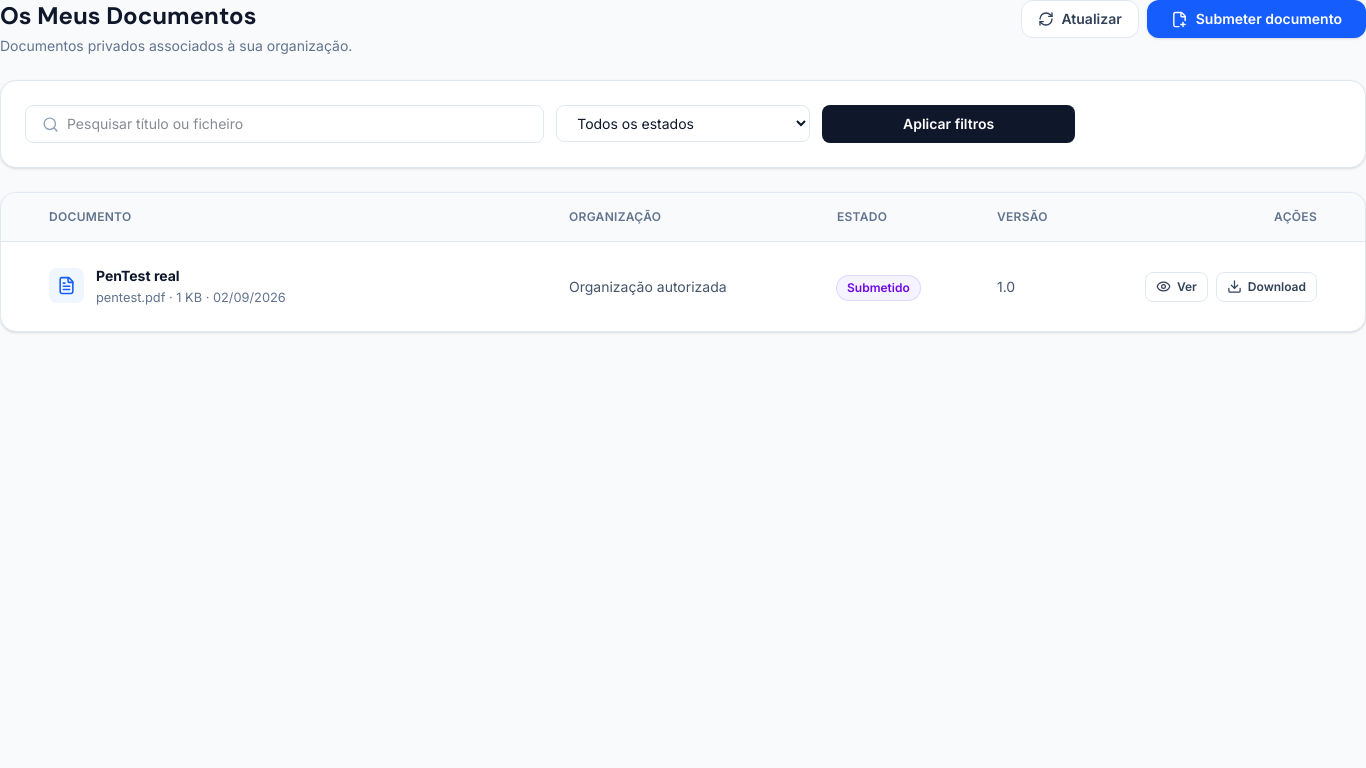
Test: DocumentsWorkspace na categoria Pentest › Cliente consulta o detalhe mas não recebe ações de revisão
Check: the text "PenTest real" is shown, box [96,267,180,284]
Click the button "Ver": (1176, 287) [1145,272,1208,302]
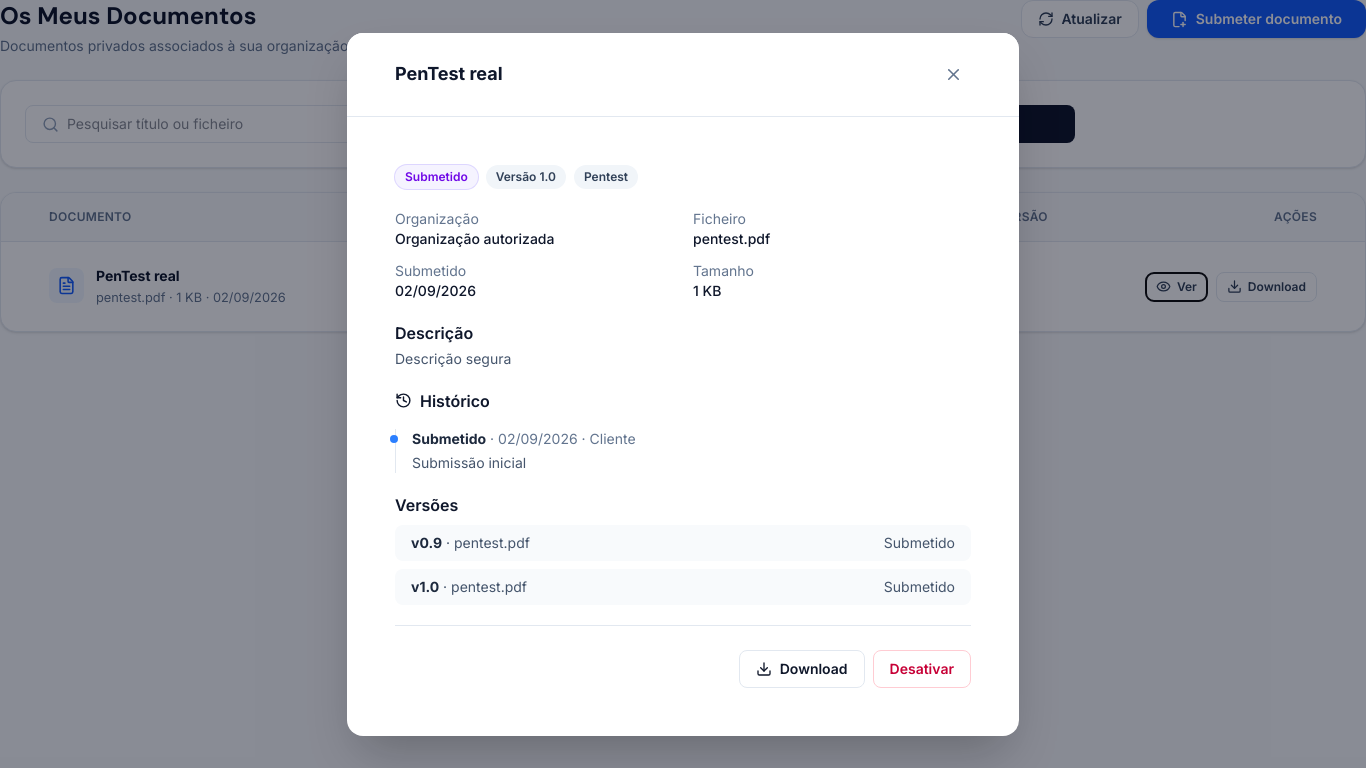
Check: the button "Download" is shown, box [739,650,864,688]
